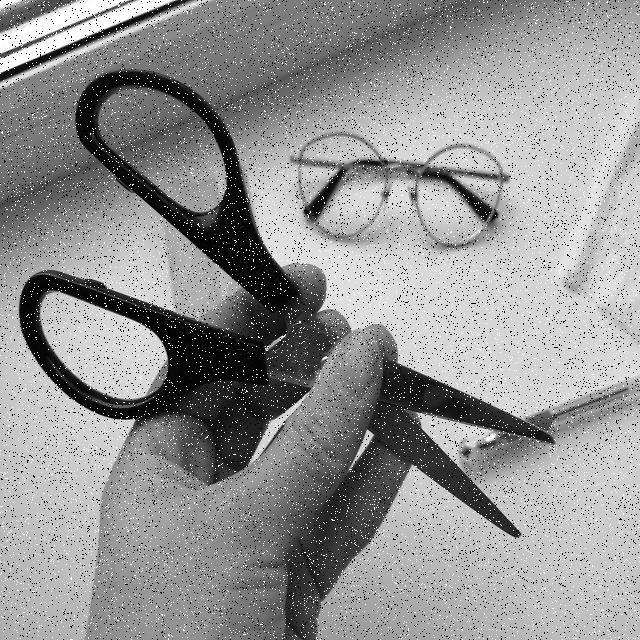scissors: (0, 24, 575, 555)
